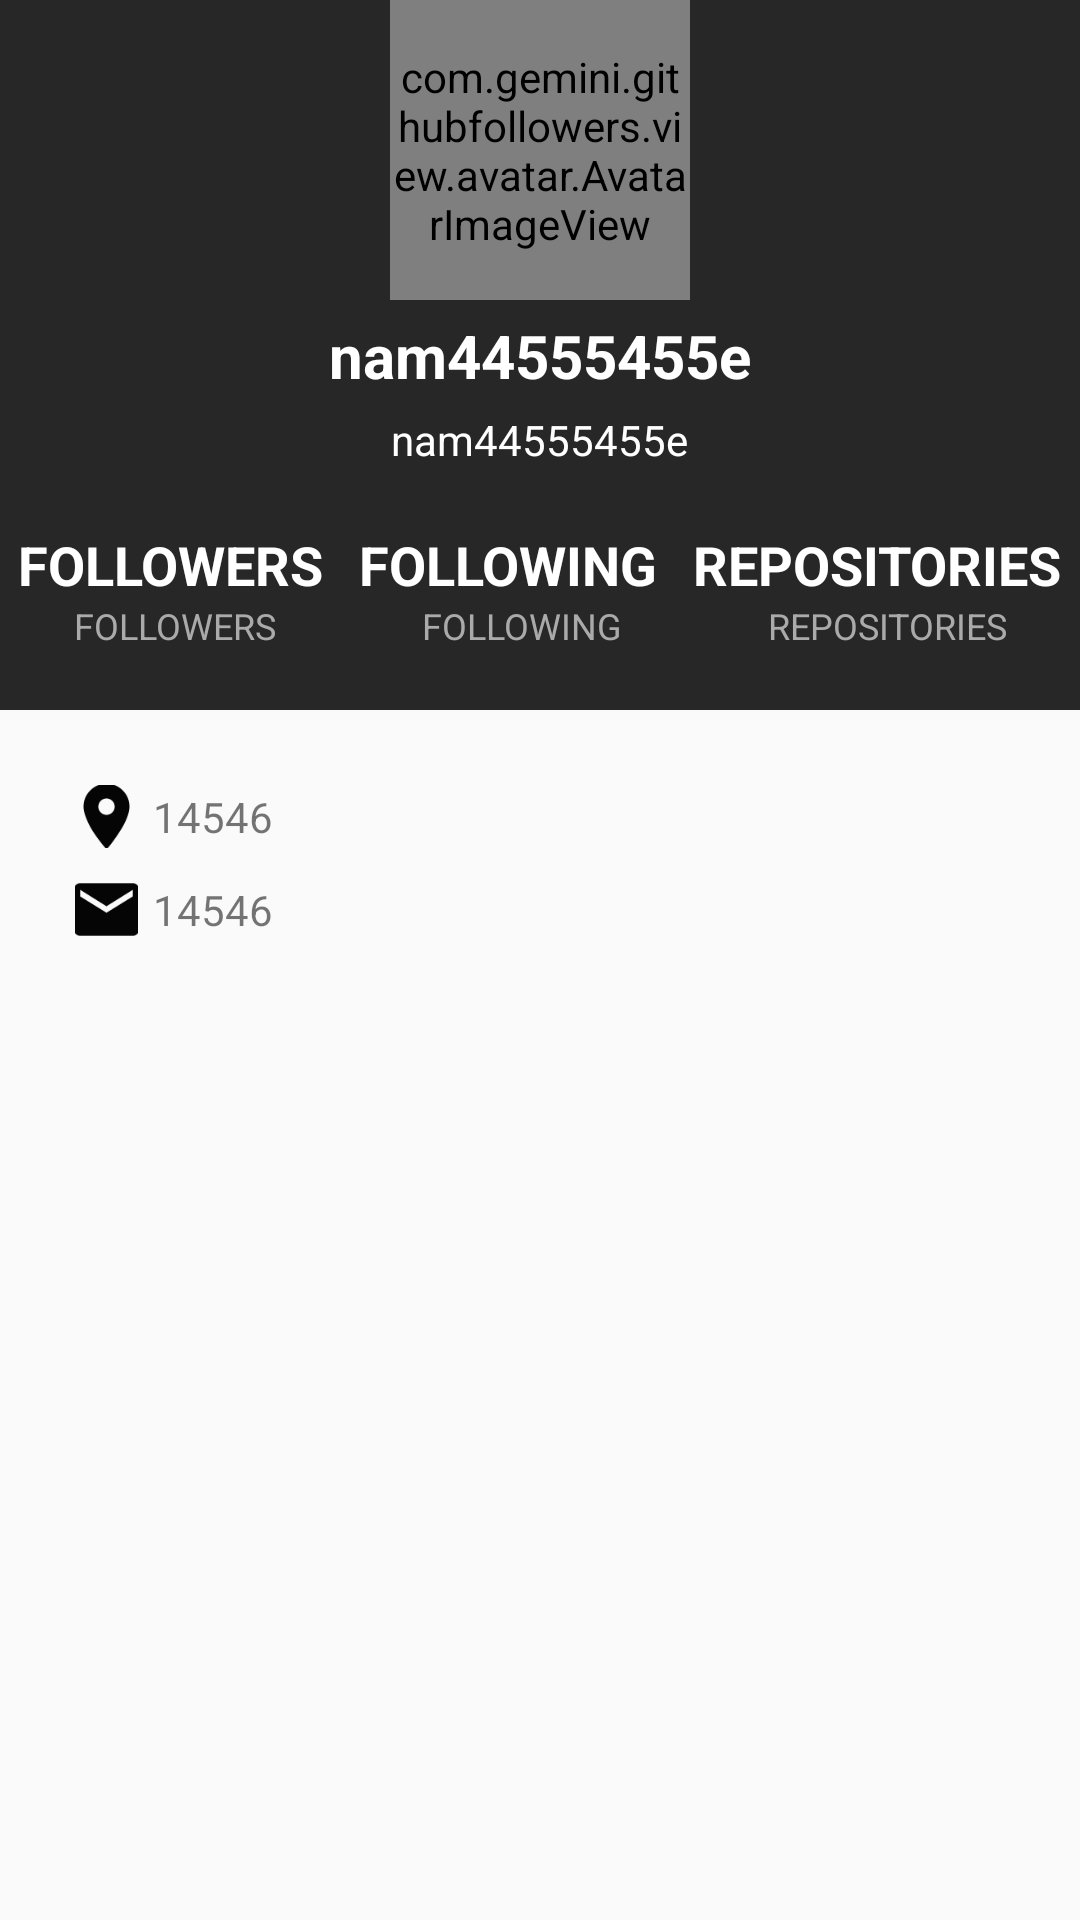

Named icons in this screenshot (1080px×1920px) and their centers, [x,y]:
mail: [106,909]
